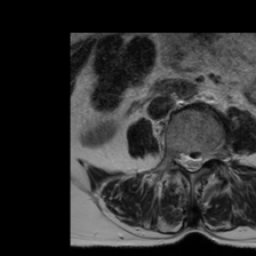CCS_stenosis: (189, 148, 196, 179)
LFS_normal: (204, 142, 212, 168)
LLS_normal: (196, 147, 204, 176)
RFS_normal: (173, 143, 181, 171)
RLS_normal: (181, 144, 189, 177)
